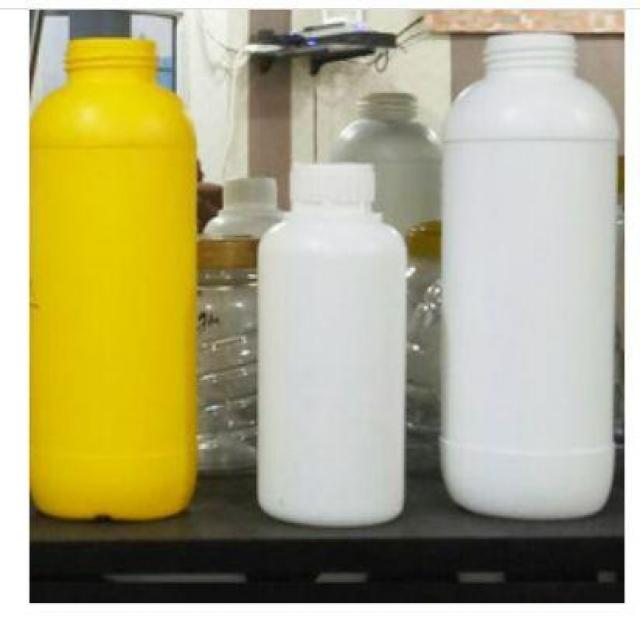plastic_bottle: (426, 28, 626, 522), (29, 38, 203, 529), (250, 163, 418, 527)
